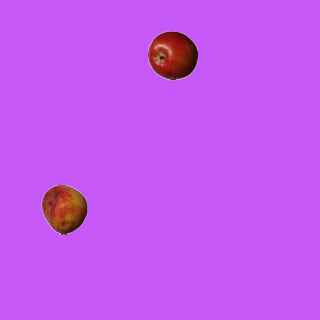Apple Braeburn: (147, 30, 197, 80)
Peach: (39, 184, 89, 234)
